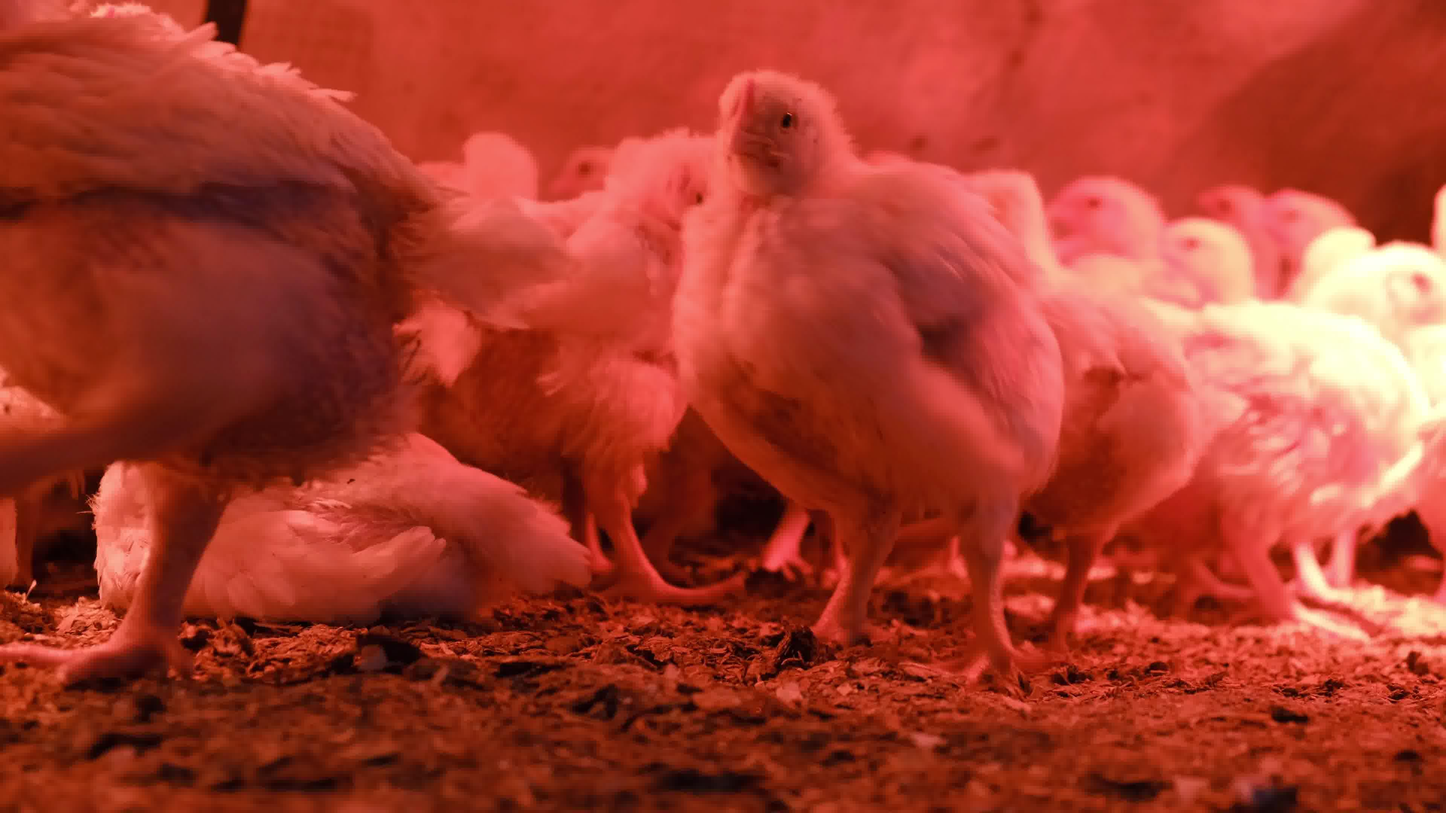AbNormal: (94, 383, 588, 623)
Normal: (2, 0, 566, 687), (674, 68, 1114, 694), (435, 132, 741, 619), (961, 172, 1237, 666), (1179, 241, 1446, 646), (1045, 174, 1189, 291), (1269, 187, 1386, 297), (1192, 179, 1287, 301), (1170, 222, 1263, 306), (547, 138, 632, 200)
